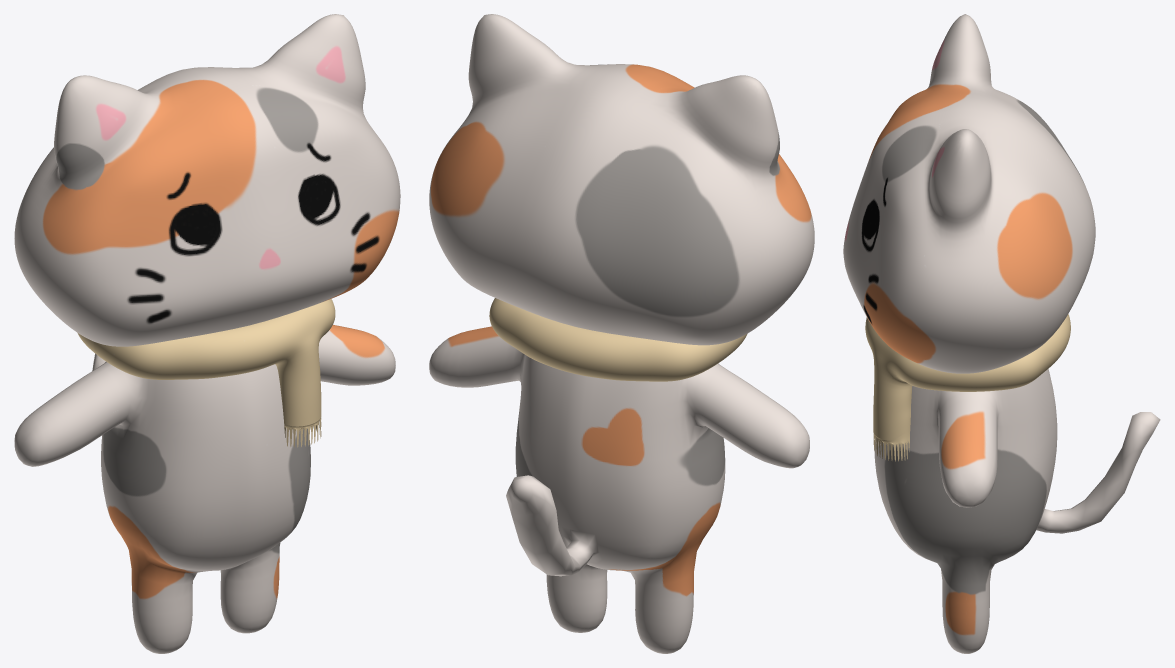
File: im_sol.glb
3 renders of one model, left to right at view 1: azimuth 30°, elevation 25°; view 2: azimuth 150°, elevation 25°; view 3: azimuth 270°, elevation 25°, orthographic. The views are drawn at different scales.
Parts seen in each view (by area): view 1: Roundcube, Roundcube.002, Torus; view 2: Roundcube, Roundcube.002, Torus; view 3: Roundcube, Roundcube.002, Torus.
Part boxes in pixels (x1,y1,x2,y2): Roundcube: (14, 14, 400, 346); Roundcube.002: (14, 325, 395, 653); Torus: (77, 299, 335, 447); Roundcube: (429, 14, 814, 345); Roundcube.002: (429, 326, 809, 653); Torus: (489, 298, 747, 381); Roundcube: (843, 14, 1095, 373); Roundcube.002: (874, 369, 1160, 653); Torus: (865, 314, 1070, 461).
Bounding box in the file's own units: 1.4 × 2.15 × 1.11.
Materials: 1 (1 with a texture image).
